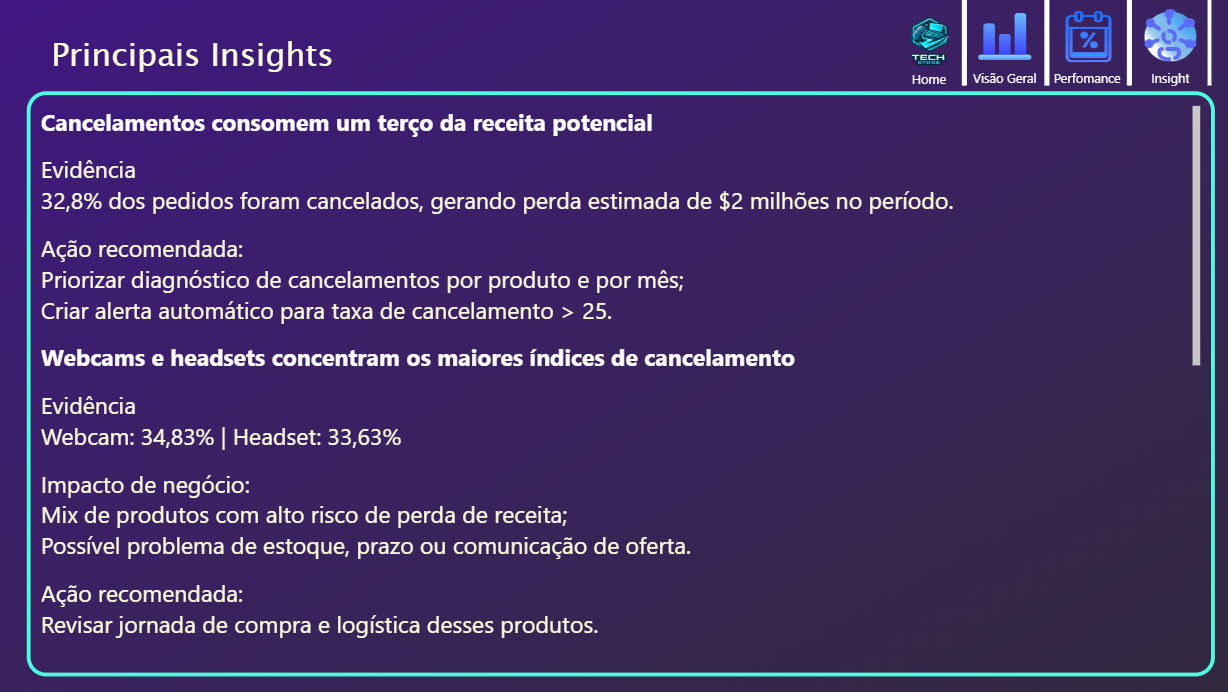

The dashboard page shown, as its layout file describes it:
{"tool":"powerbi","page":{"name":"Insights","canvas":[1280,720],"ordinal":3},"visuals":[{"type":"image","box":[778.4,0,379.7,89.2],"z":0,"group":"g1"},{"type":"shape","box":[938,64.8,59.2,33.8],"z":0},{"type":"image","box":[1013.5,0,64.9,75.7],"z":1000,"group":"g1"},{"type":"shape","box":[1091.5,57.7,81.7,46.5],"z":1000},{"type":"shape","box":[983.8,0,40.5,89.2],"z":2000,"group":"g1"},{"type":"shape","box":[1177.5,57.7,80.3,46.5],"z":2000},{"type":"shape","box":[1068.9,0,40.5,89.2],"z":3000,"group":"g1"},{"type":"shape","box":[1005.6,57.7,81.7,46.5],"z":3000},{"type":"image","box":[1100,0,64.9,75.7],"z":4000,"group":"g1"},{"type":"image","box":[1014.6,0,64.9,75.7],"z":4000},{"type":"shape","box":[1155.4,0,40.5,89.2],"z":5000,"group":"g1"},{"type":"shape","box":[984.9,0,40.5,89.2],"z":5000},{"type":"shape","box":[1070,0,40.5,89.2],"z":6000},{"type":"image","box":[1101.1,0,64.9,75.7],"z":7000},{"type":"shape","box":[1156.5,0,40.5,89.2],"z":8000},{"type":"image","box":[1185.4,0,64.8,76.1],"z":9000,"group":"g1"},{"type":"image","box":[1186.5,0,64.8,76.1],"z":9000},{"type":"shape","box":[1251.4,0,13.5,89.2],"z":10000},{"type":"group","id":"g1","title":"Grupo 3","box":[778.4,0,471.8,89.2],"z":11000},{"type":"shape","box":[0,16.2,404.1,83.8],"z":12000},{"type":"textbox","box":[29.5,95.1,1234.4,608.2],"z":13000}]}

Visuals, with their boxes on the page's 1280x720 design canvas (x1, y1, x2, y2). These are canvas units, not pixel positions in the 1228x692 screenshot, which may show the page scaled, cropped or inside an application window:
image: x1=778, y1=0, x2=1158, y2=89
shape: x1=938, y1=65, x2=997, y2=99
image: x1=1014, y1=0, x2=1078, y2=76
shape: x1=1092, y1=58, x2=1173, y2=104
shape: x1=984, y1=0, x2=1024, y2=89
shape: x1=1178, y1=58, x2=1258, y2=104
shape: x1=1069, y1=0, x2=1109, y2=89
shape: x1=1006, y1=58, x2=1087, y2=104
image: x1=1100, y1=0, x2=1165, y2=76
image: x1=1015, y1=0, x2=1080, y2=76
shape: x1=1155, y1=0, x2=1196, y2=89
shape: x1=985, y1=0, x2=1025, y2=89
shape: x1=1070, y1=0, x2=1110, y2=89
image: x1=1101, y1=0, x2=1166, y2=76
shape: x1=1156, y1=0, x2=1197, y2=89
image: x1=1185, y1=0, x2=1250, y2=76
image: x1=1186, y1=0, x2=1251, y2=76
shape: x1=1251, y1=0, x2=1265, y2=89
"Grupo 3" group: x1=778, y1=0, x2=1250, y2=89
shape: x1=0, y1=16, x2=404, y2=100
textbox: x1=30, y1=95, x2=1264, y2=703
